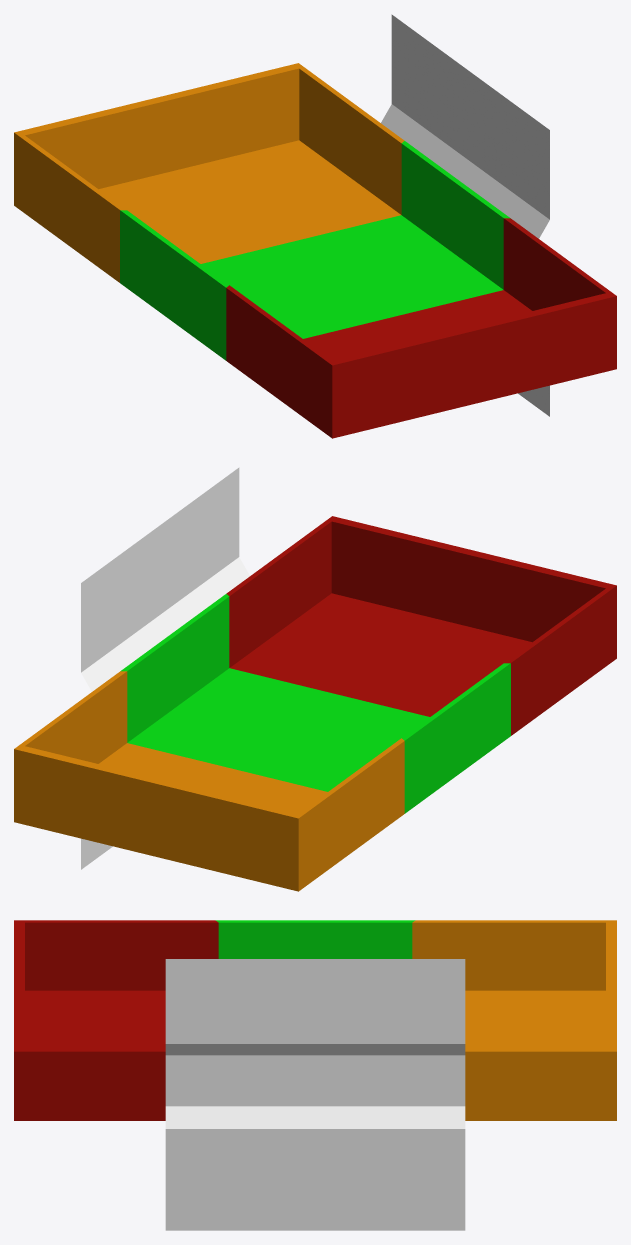
Rendered from Caja de latas o snacks 1.fbx.
3 renders of one model, top to bottom at view 1: azimuth 30°, elevation 25°; view 2: azimuth 150°, elevation 25°; view 3: azimuth 270°, elevation 25°, orthographic. The views are drawn at different scales.
Parts seen in each view (by area): view 1: Cube, Marcas Piratas-13; view 2: Cube, Marcas Piratas-13; view 3: Marcas Piratas-13, Cube.
Boxes of the visible parts, box(x1,y1,x2,y2) form: Cube: box(14, 63, 616, 438); Marcas Piratas-13: box(381, 14, 549, 416); Cube: box(14, 516, 616, 891); Marcas Piratas-13: box(81, 467, 249, 869); Marcas Piratas-13: box(165, 959, 465, 1230); Cube: box(14, 920, 616, 1120).
Bounding box in the file's own units: 868 × 799 × 1608.
